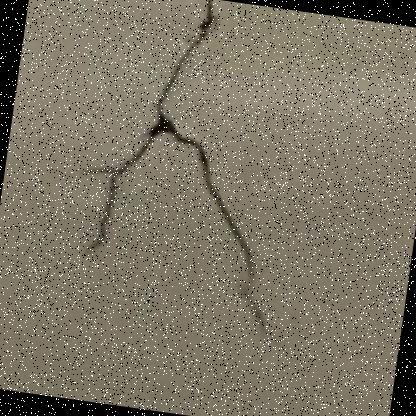Crack: (27, 0, 371, 378)
